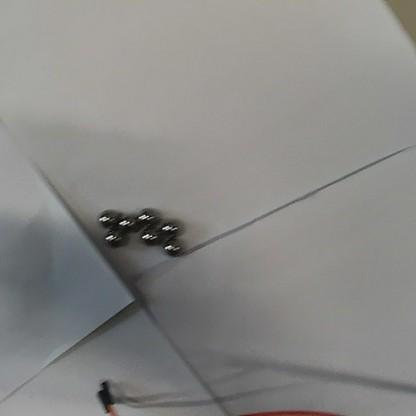ironball: (140, 227, 159, 244), (163, 238, 179, 254), (162, 220, 178, 236), (139, 206, 153, 222), (99, 210, 112, 226), (119, 216, 135, 229), (106, 230, 120, 244)
